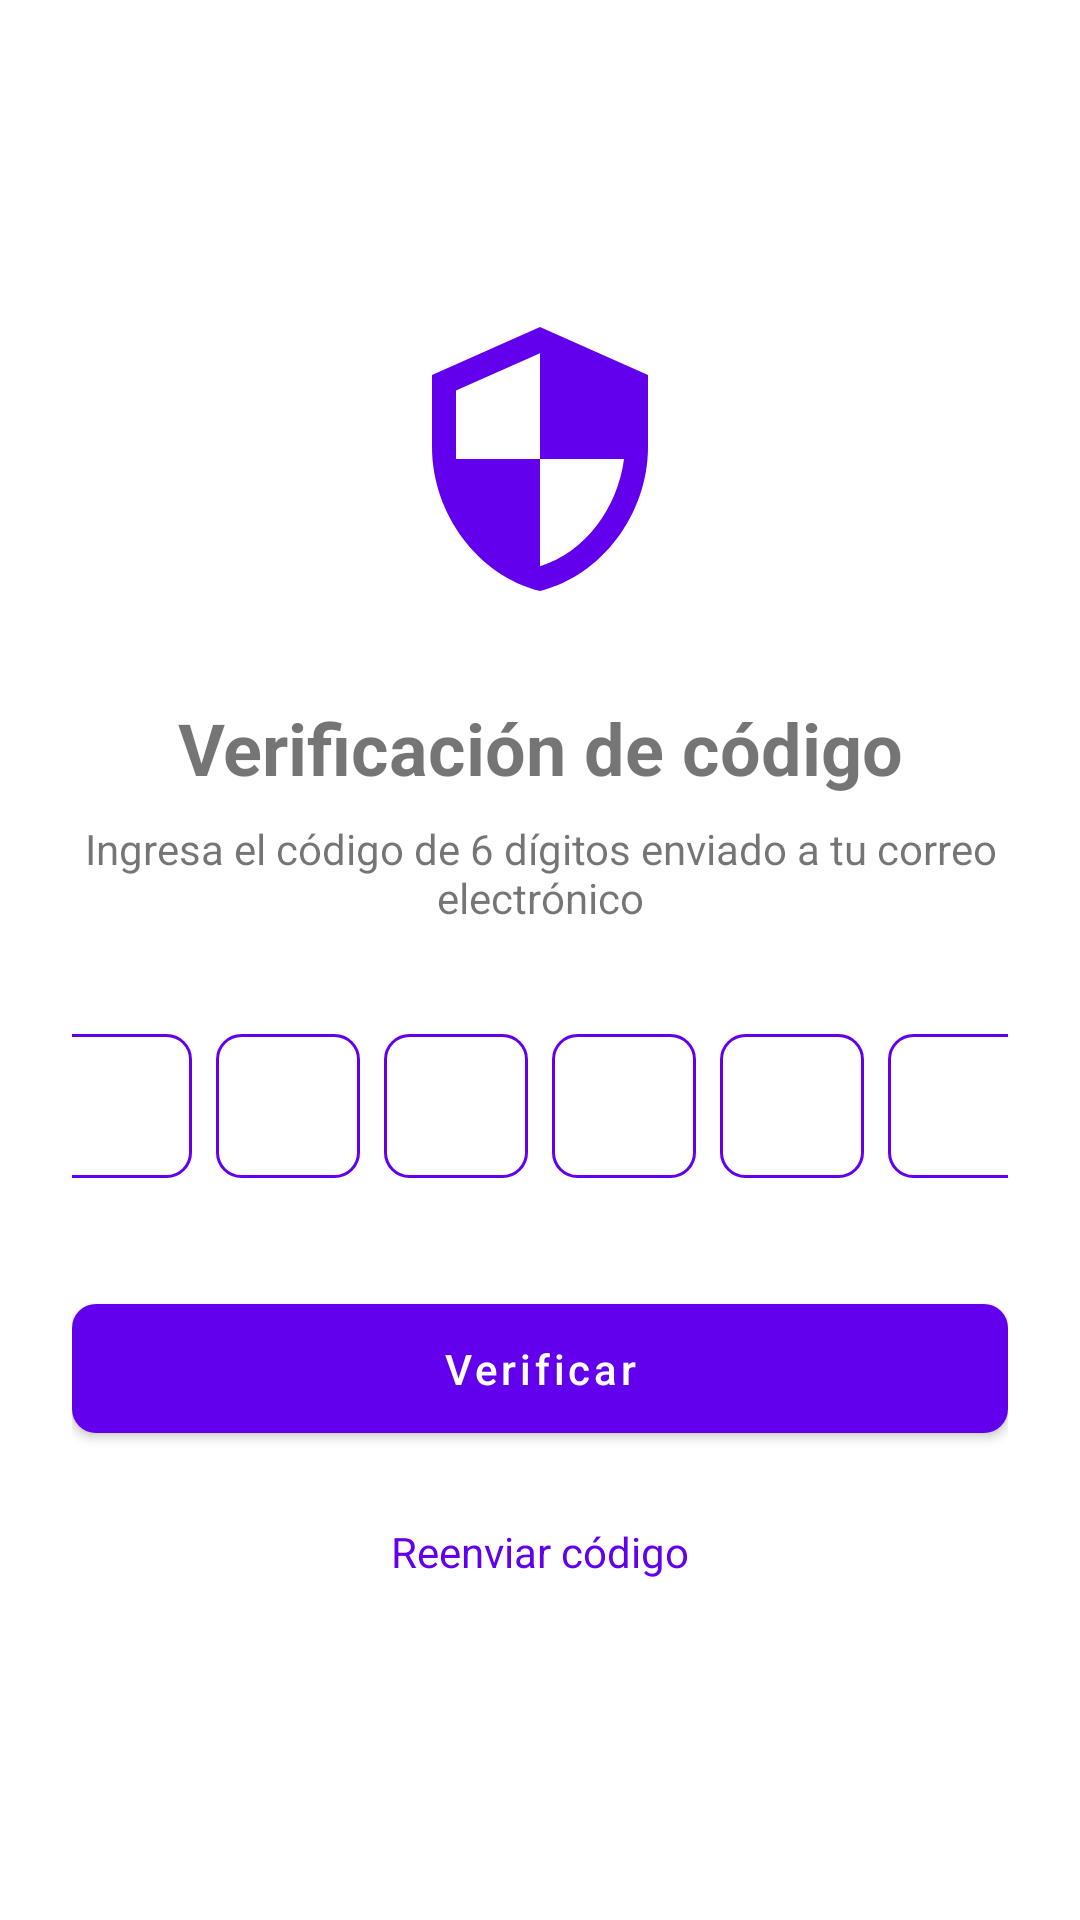

Icons on this 1080×1920 Android screen, each with its box as bbox=[x1, y1, x2, y2]:
shield: bbox=[432, 327, 648, 591]
